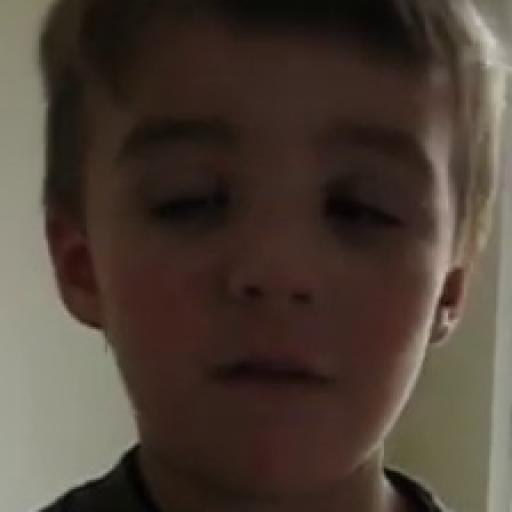Autism: (25, 14, 482, 497)
